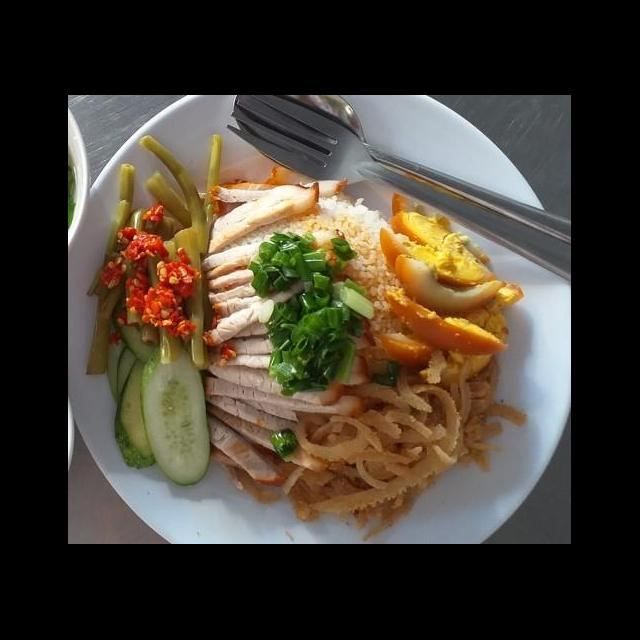bi: (288, 348, 532, 542)
com: (288, 188, 418, 342)
dua chua: (82, 126, 232, 380)
suon: (198, 233, 376, 488), (204, 162, 352, 255)
trung: (378, 188, 526, 388)
